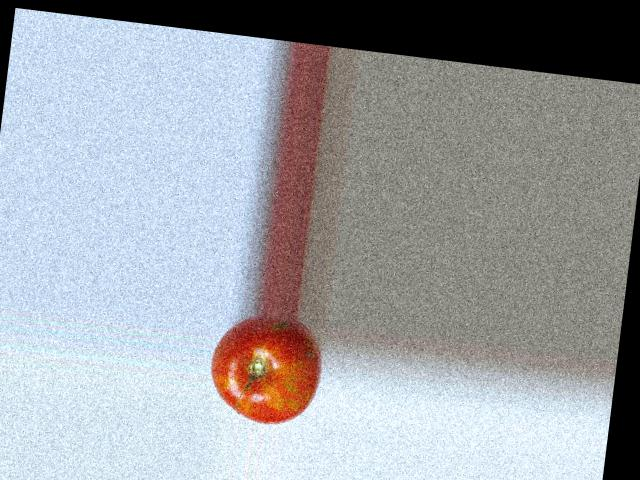tomato: (205, 310, 327, 429)
